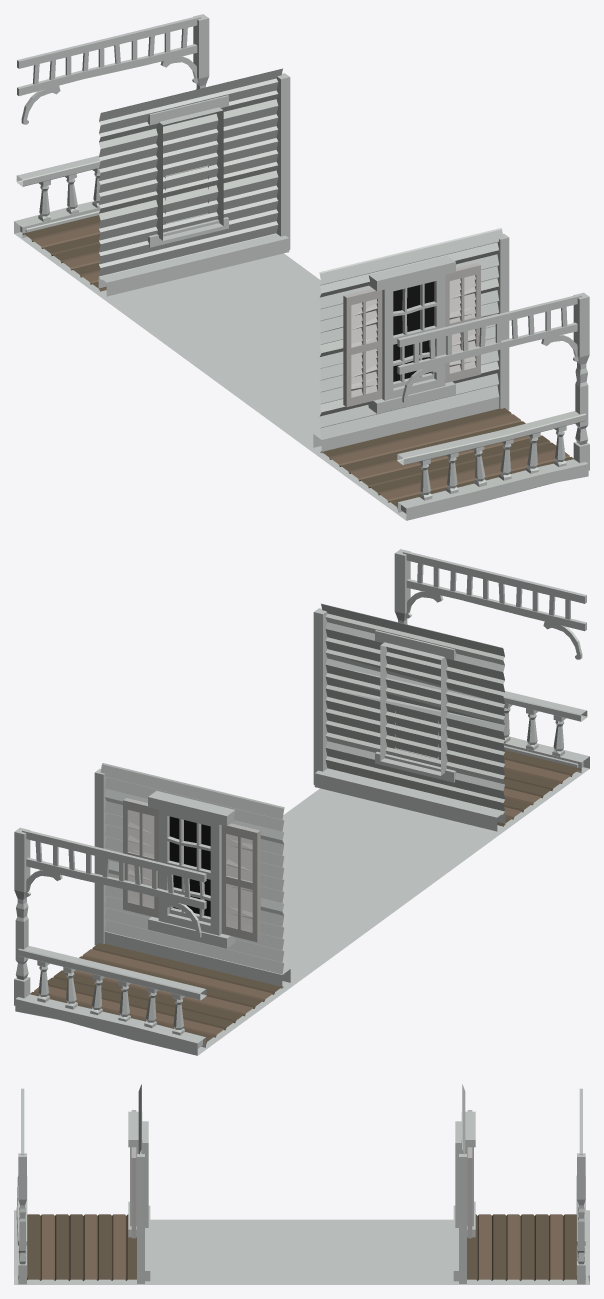
The model's file is SM_Bld_Mansion_Middle_02.glb.
The picture shows the model from 3 angles, top to bottom: view 1: azimuth 30°, elevation 25°; view 2: azimuth 150°, elevation 25°; view 3: azimuth 270°, elevation 25°; orthographic projection. The views are drawn at different scales.
Visible parts, largest first — view 1: SM_Bld_Mansion_Middle_02_part00; view 2: SM_Bld_Mansion_Middle_02_part00; view 3: SM_Bld_Mansion_Middle_02_part00.
Part boxes in pixels (x1,y1,x2,y2): SM_Bld_Mansion_Middle_02_part00: (14,14,589,520); SM_Bld_Mansion_Middle_02_part00: (14,549,589,1055); SM_Bld_Mansion_Middle_02_part00: (14,1084,589,1284).
Bounding box in the file's own units: 3.11 × 2.9 × 11.18.
Materials: 1 (1 with a texture image).
